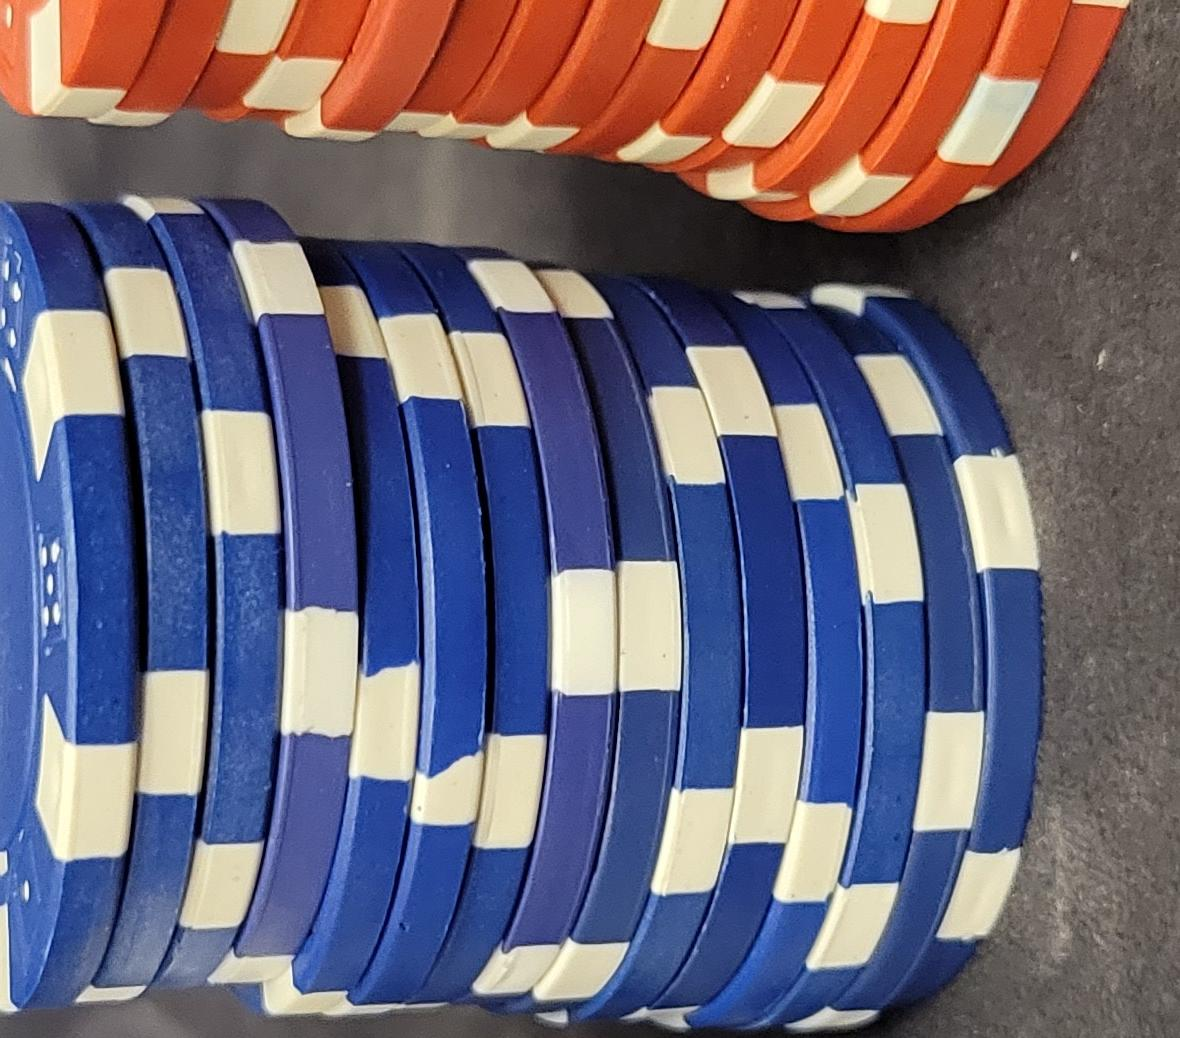Chip: (1, 302, 527, 1038)
